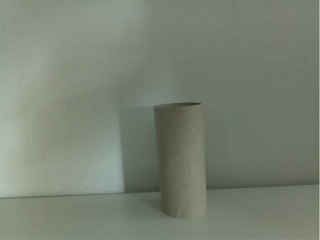rollo papel: (153, 103, 209, 218)
